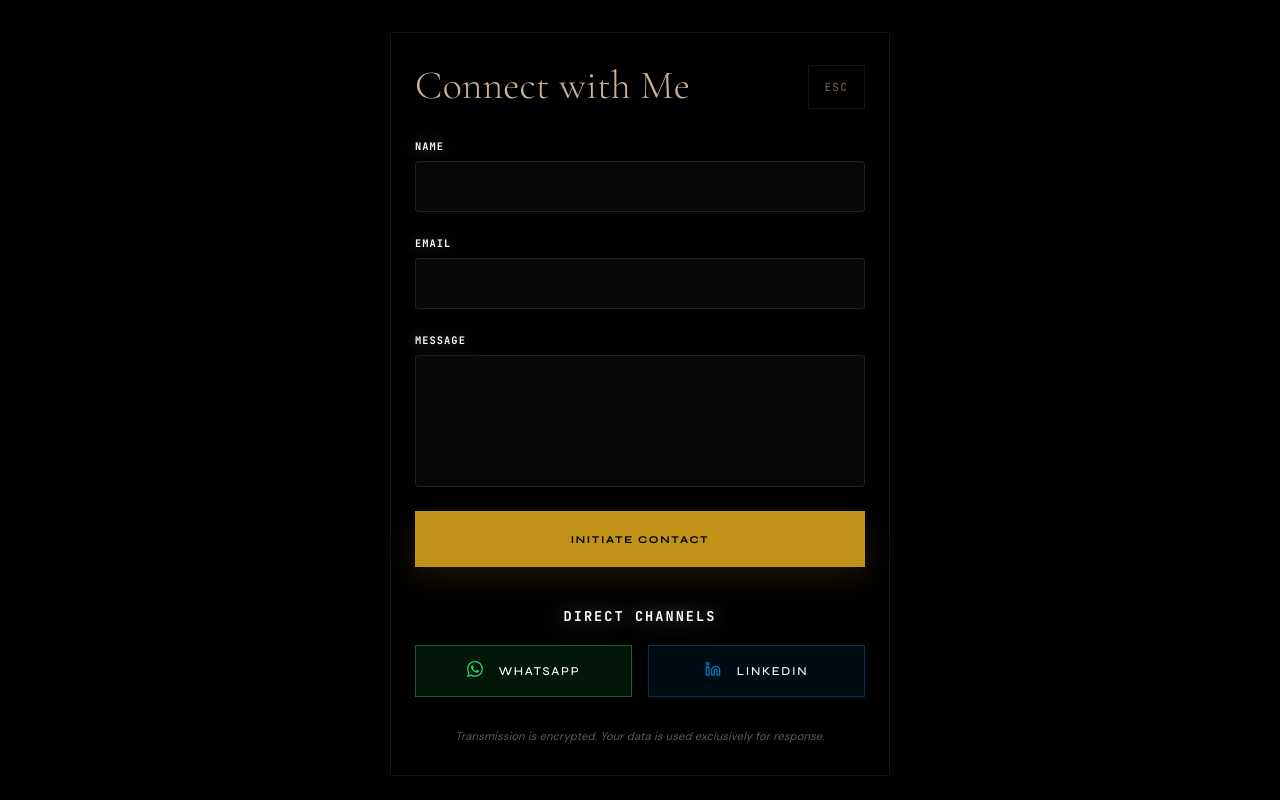
Scenario: ContactHUD Component › submits form successfully and displays complete message
Type "Ahmed Raza" into the field labelled "NAME".
click(640, 186); type("Ahmed Raza")  # box top-left (415, 161), bottom-right (865, 212)
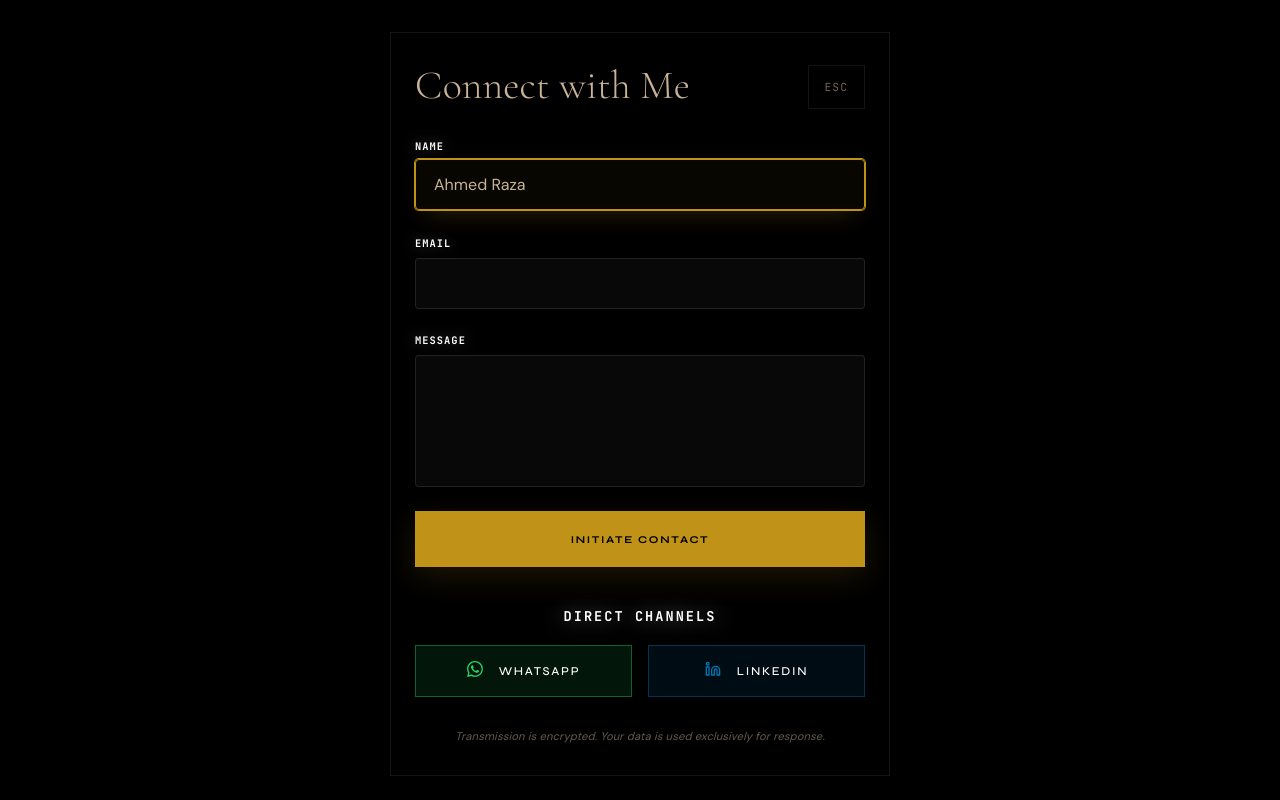
Type "test@example.com" into the field labelled "EMAIL".
click(640, 284); type("test@example.com")  # box top-left (415, 258), bottom-right (865, 309)
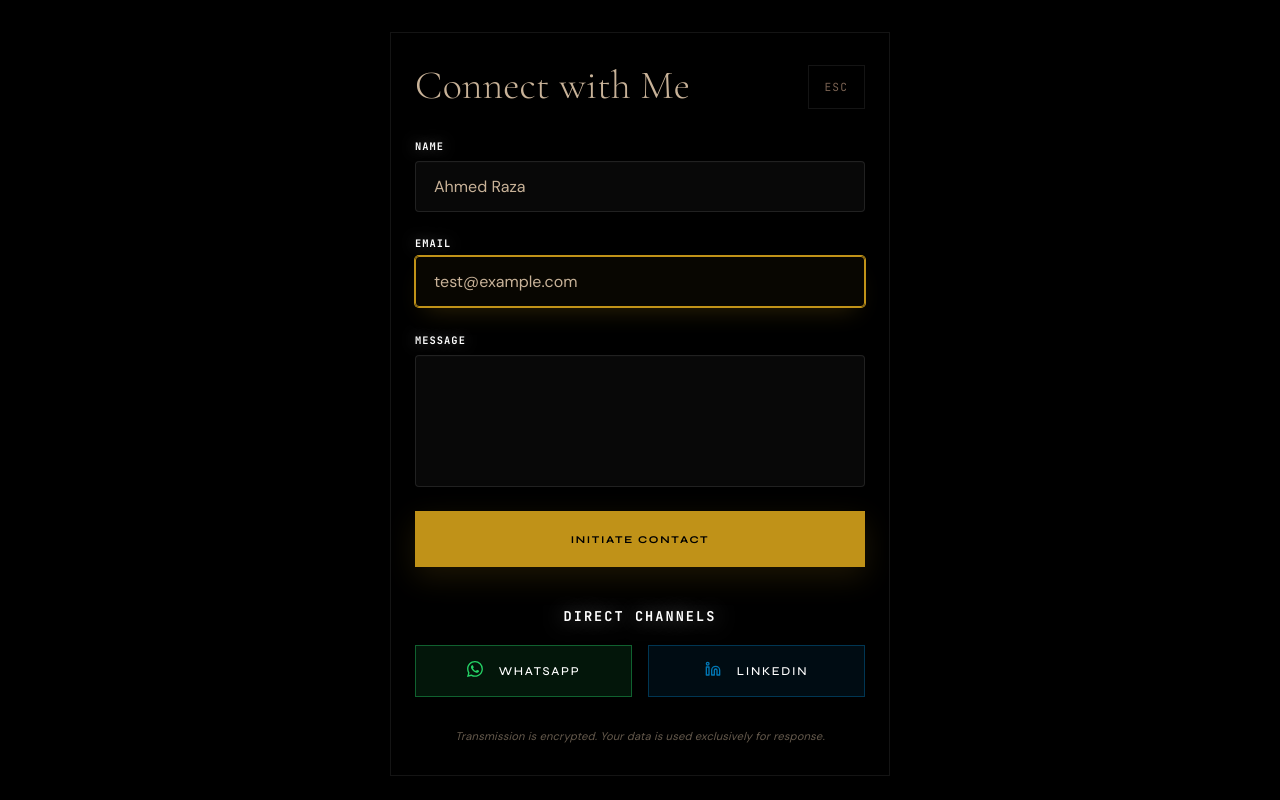
Type "This is a test message for the portfolio form." into the text box labelled "MESSAGE".
click(640, 421); type("This is a test message for the portfolio form.")  # box top-left (415, 355), bottom-right (865, 487)
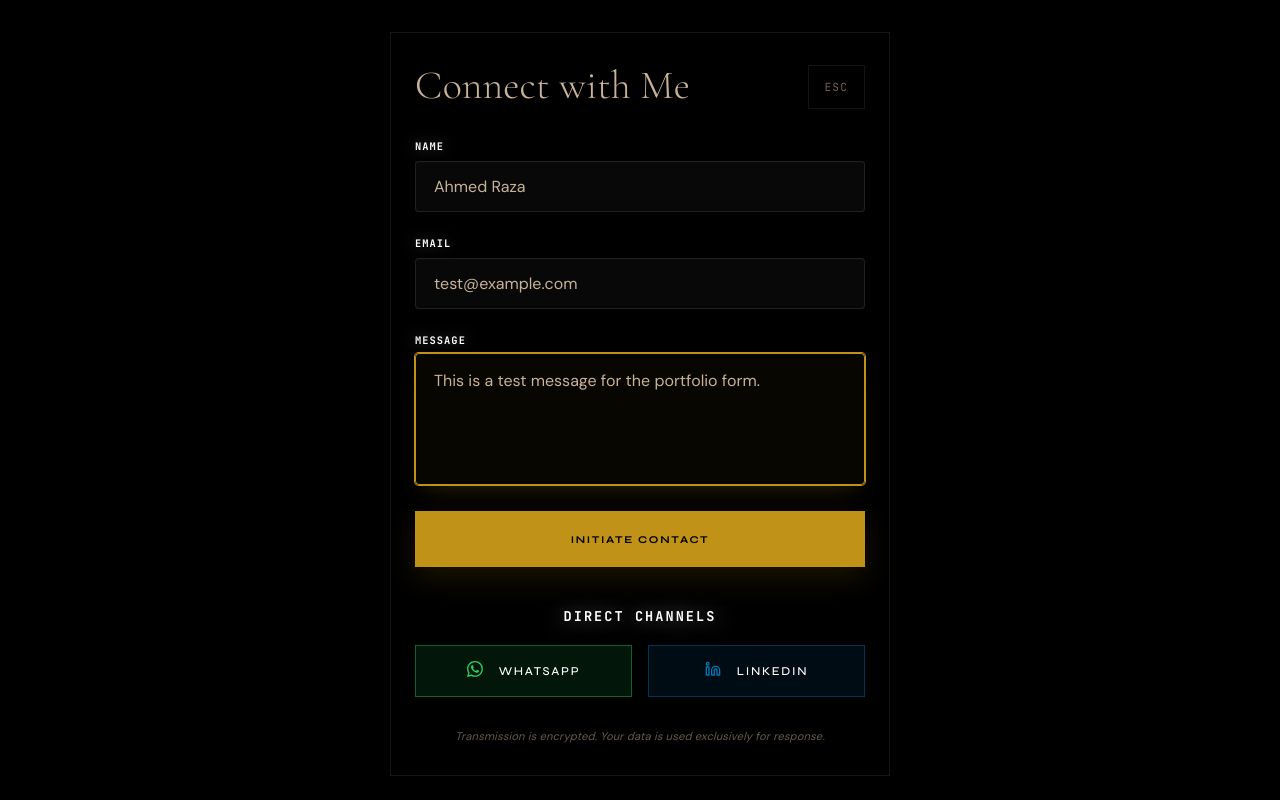
Click the button "INITIATE CONTACT".
click(640, 539)  # box top-left (415, 511), bottom-right (865, 567)
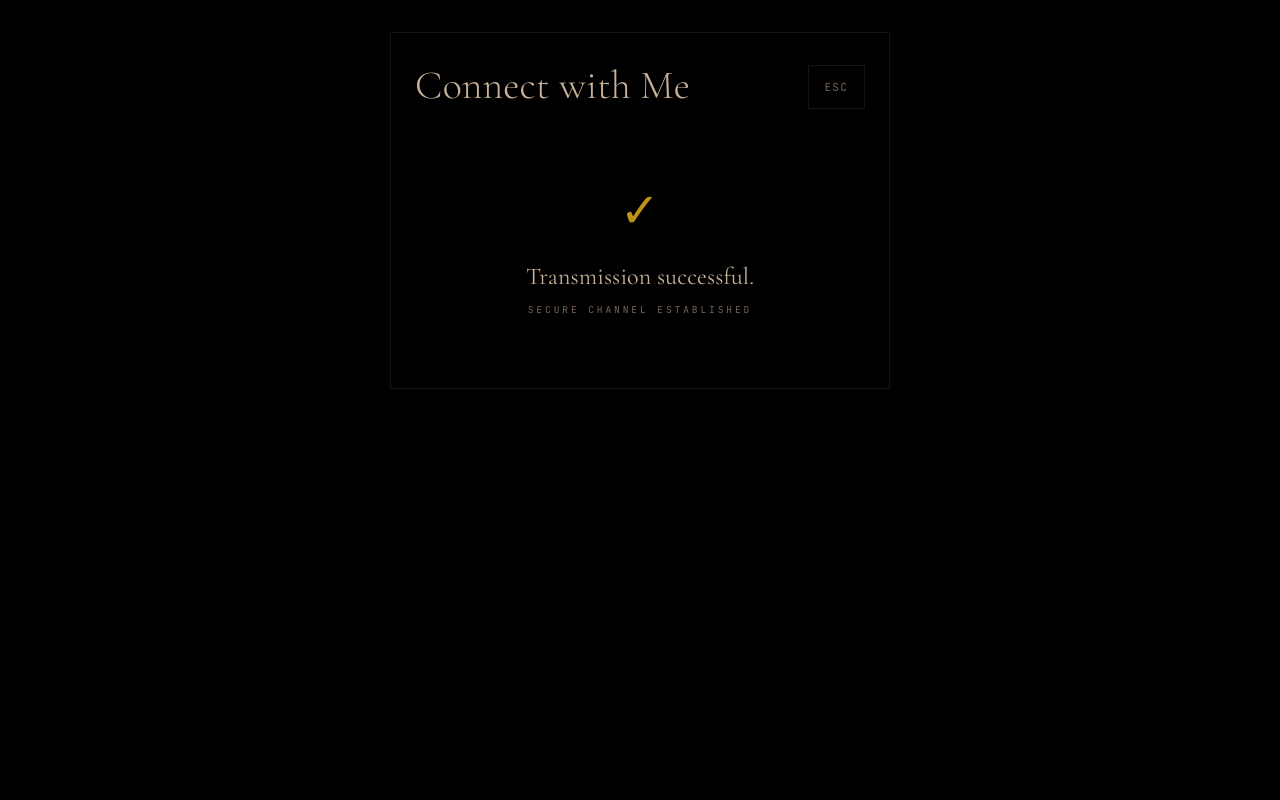
Expected: the text "Transmission successful." is shown, top-left (526, 262), bottom-right (754, 291)
